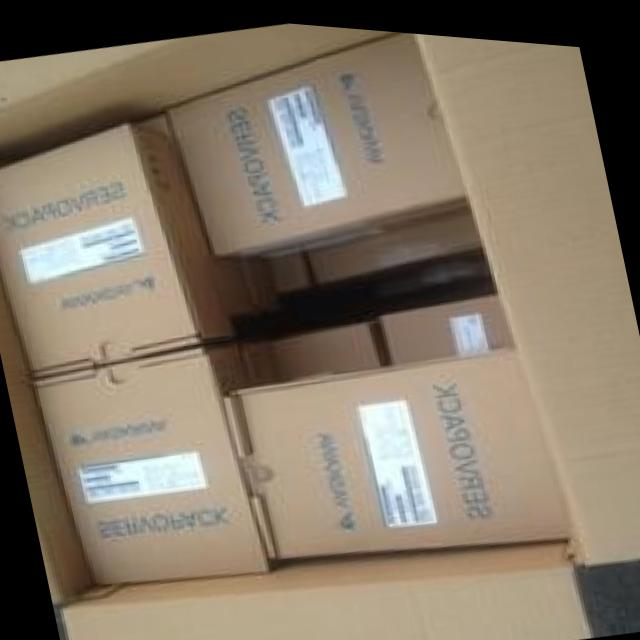box: (223, 341, 579, 560), (160, 25, 466, 252), (0, 125, 232, 378), (33, 340, 272, 584), (304, 201, 479, 277), (381, 285, 515, 357), (267, 316, 385, 375), (370, 243, 488, 293), (210, 255, 247, 310), (262, 246, 309, 286), (234, 256, 271, 304), (237, 340, 274, 379), (133, 113, 173, 139)
